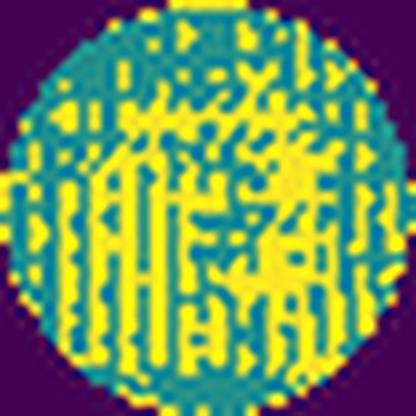Random: (0, 54, 416, 392)
